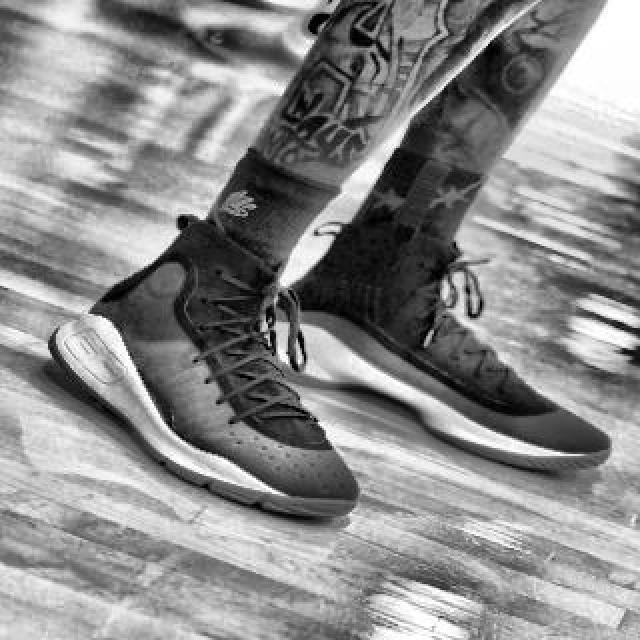shoe: (53, 230, 359, 514), (266, 230, 608, 468)
